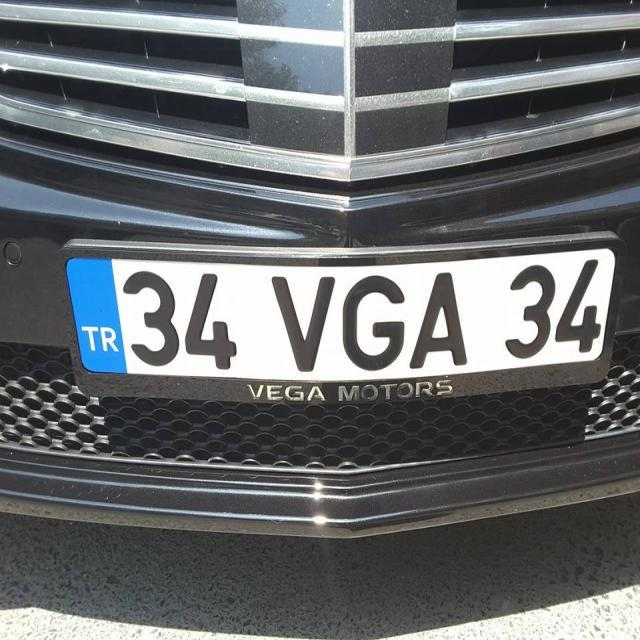plate: (54, 226, 629, 415)
